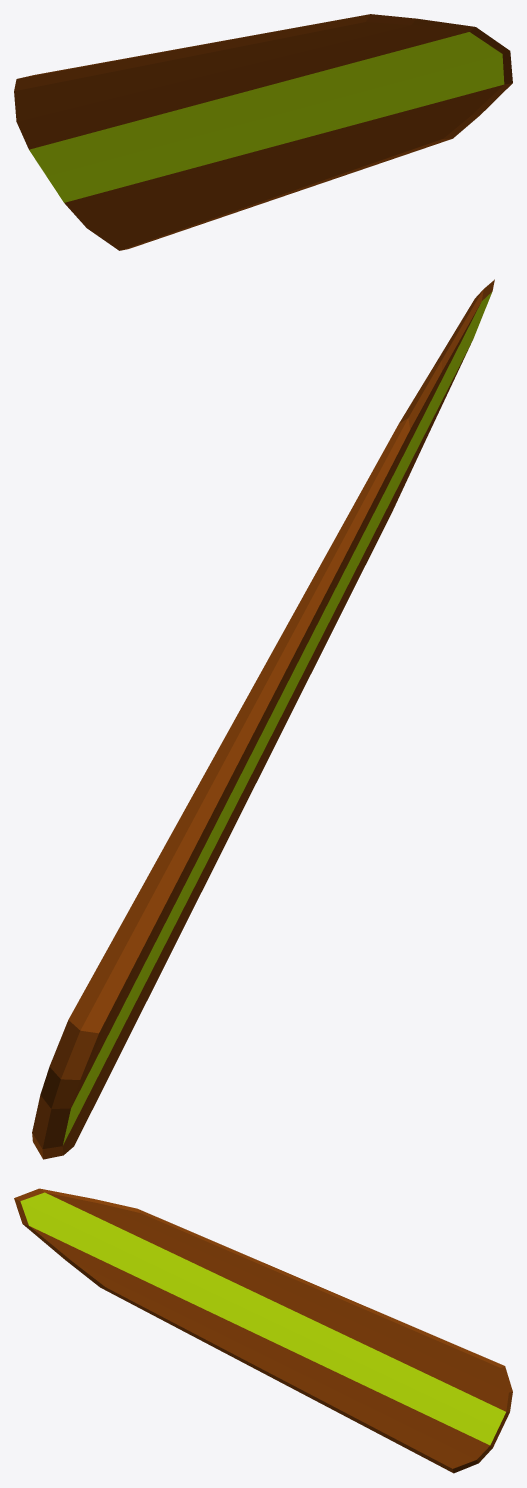
File: surfboard.glb
3 renders of one model, top to bottom at view 1: azimuth 30°, elevation 25°; view 2: azimuth 150°, elevation 25°; view 3: azimuth 270°, elevation 25°, orthographic. The views are drawn at different scales.
Visible parts, largest first — view 1: surfboard; view 2: surfboard; view 3: surfboard.
Part boxes in pixels (box(x1,y1,x2,y2)): surfboard: box(14, 14, 512, 250); surfboard: box(32, 279, 494, 1159); surfboard: box(14, 1188, 512, 1473).
Size of the model in its own units: 0.1507 by 0.7321 by 1.18.
